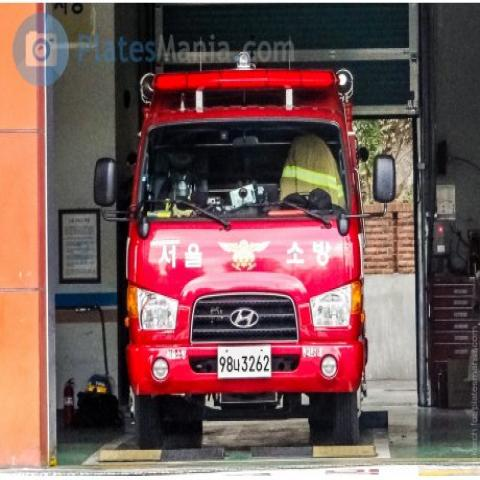LP: (207, 340, 279, 384)
